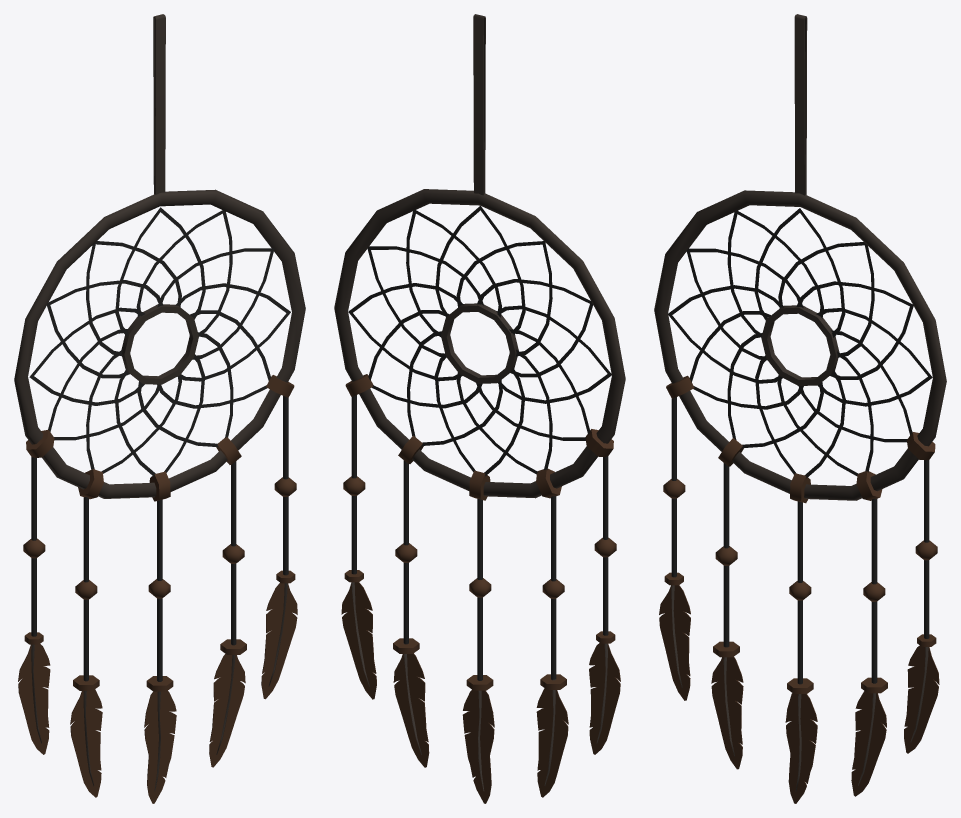
File: DreamCatcher_01.fbx
3 views of the same model, side by side, from view 1: azimuth 30°, elevation 25°; view 2: azimuth 150°, elevation 25°; view 3: azimuth 330°, elevation 25° (orthographic).
Parts seen in each view (by area): view 1: DreamCatcher_01; view 2: DreamCatcher_01; view 3: DreamCatcher_01.
Part boxes in pixels (x1=…): DreamCatcher_01: x1=14, y1=14, x2=305, y2=803; DreamCatcher_01: x1=334, y1=14, x2=625, y2=803; DreamCatcher_01: x1=654, y1=14, x2=946, y2=803.
Size of the model in its own units: 0.3438 by 0.8858 by 0.0272.
